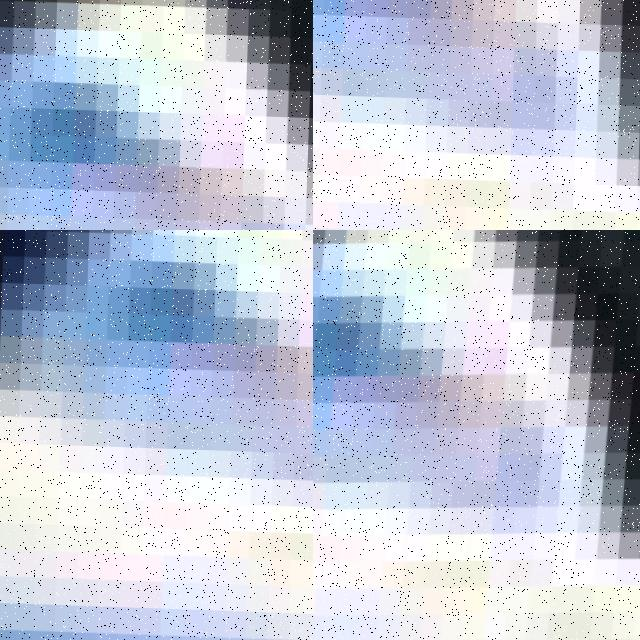drone: (313, 230, 640, 640)
